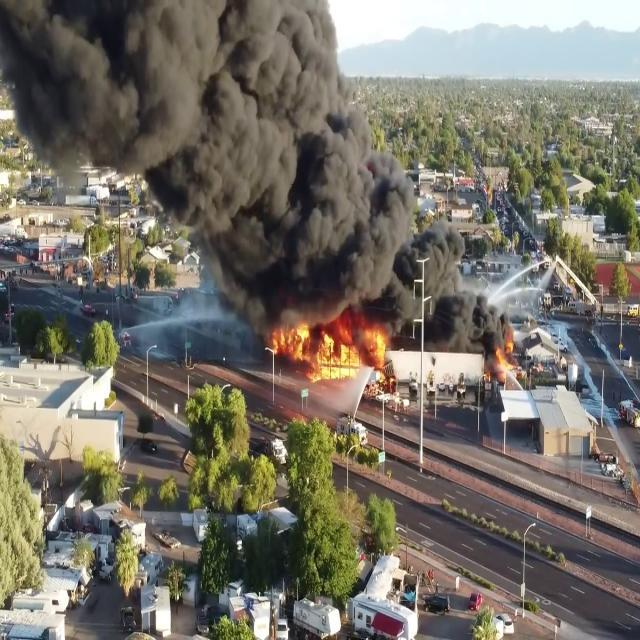Fire: (267, 306, 388, 378), (490, 332, 521, 385)
Smoke: (0, 1, 486, 340)
